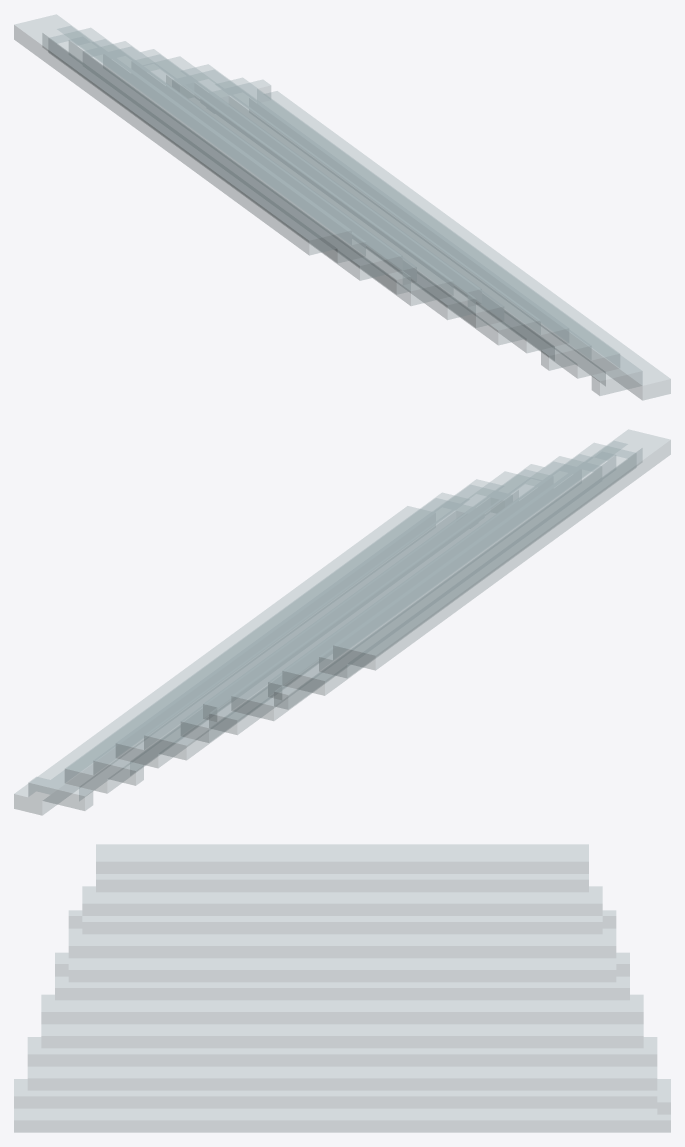
Rendered from muscle_car_windscreen.glb.
The picture shows the model from 3 angles, top to bottom: view 1: azimuth 30°, elevation 25°; view 2: azimuth 150°, elevation 25°; view 3: azimuth 270°, elevation 25°; orthographic projection. The views are drawn at different scales.
Visible parts, largest first — view 1: body:compound; view 2: body:compound; view 3: body:compound.
Boxes of the visible parts, x1,y1,x2,y2 form: body:compound: [14, 14, 670, 400]; body:compound: [14, 429, 670, 815]; body:compound: [14, 844, 670, 1132].
Size of the model in its own units: 0.6875 by 0.4062 by 1.5.
